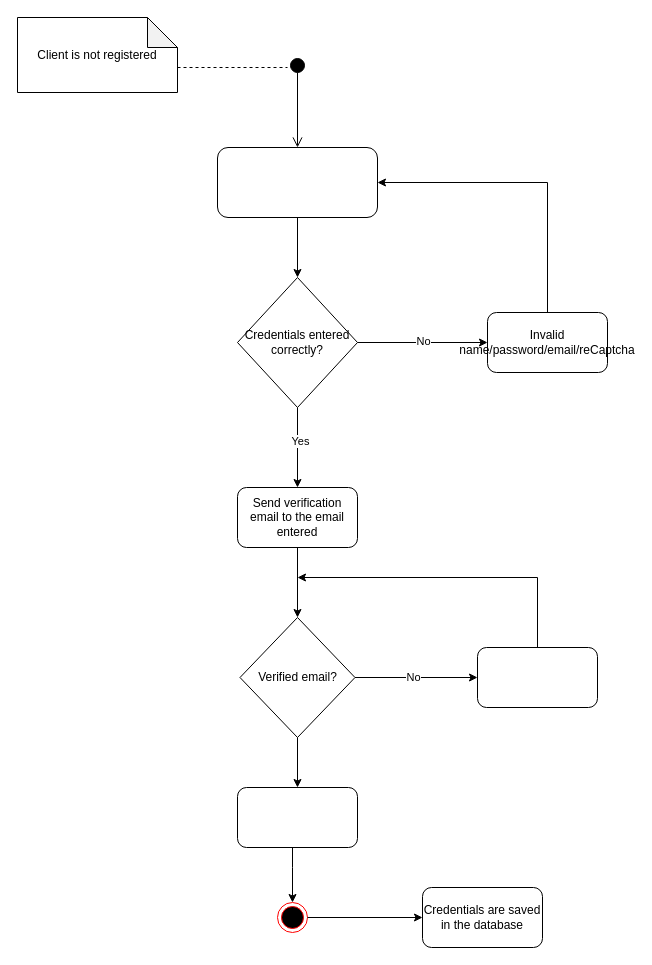
Some shapes in this 652 by 965 pixel diagram are drawn without their labels. The centre of each missing label's shape, as x and y in pixels:
"Client enter name, password, email and resolve reCaptcha" belongs at pixel 297 182.
"registration completed sucessfully" belongs at pixel 297 817.
"resend verifiation email" belongs at pixel 537 677.
